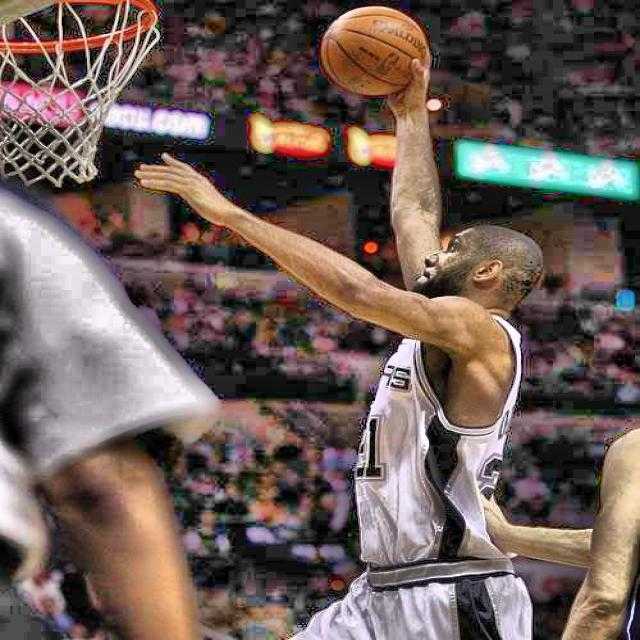board: (320, 5, 428, 96)
rim: (0, 0, 160, 187)
